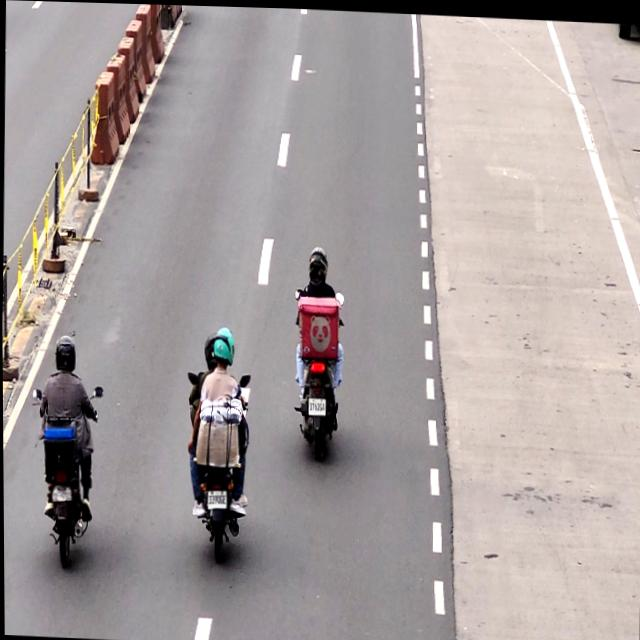License-Plate: (304, 395, 326, 418), (49, 483, 72, 504), (205, 487, 226, 509)
Motorcycle: (187, 326, 251, 567), (32, 336, 92, 566), (293, 245, 343, 465)
